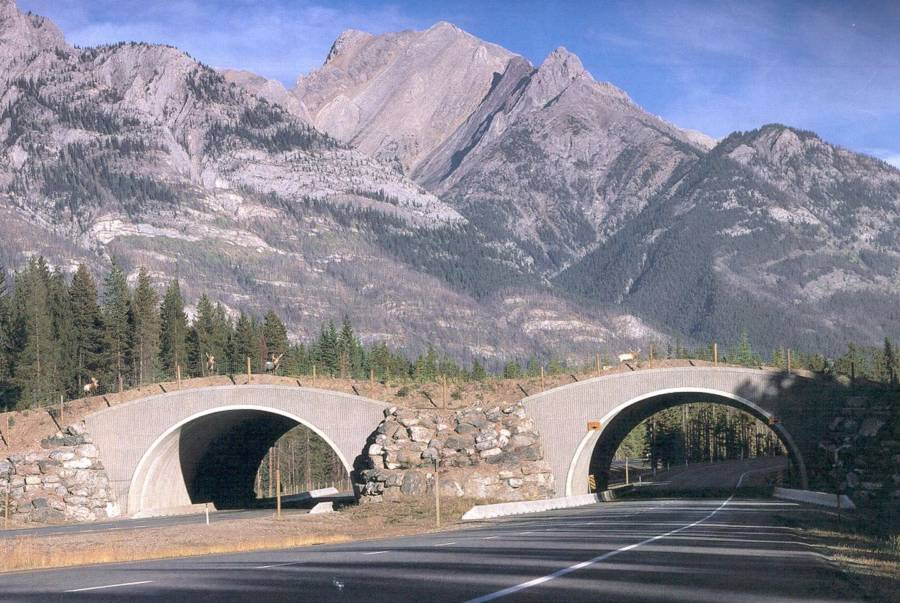bridge: (519, 362, 816, 505), (66, 382, 399, 504)
